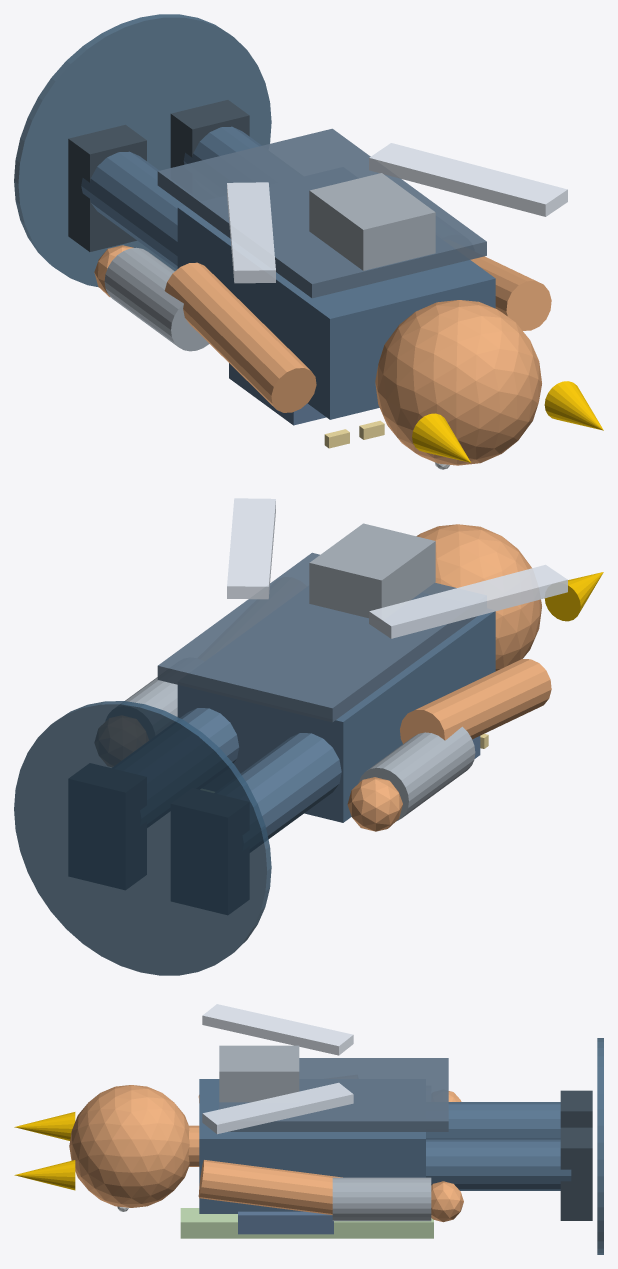
The model's file is SW_NPC_027_bracca_longsail.glb.
The picture shows the model from 3 angles, top to bottom: view 1: azimuth 30°, elevation 25°; view 2: azimuth 150°, elevation 25°; view 3: azimuth 270°, elevation 25°; orthographic projection. The views are drawn at different scales.
Parts seen in each view (by area): view 1: round_base_plate, head, torso_uniform, storm_cloak, left_upper_arm, wingpack_core, left_leg, right_wing_rig, left_forearm_gauntlet, left_boot, left_wing_rig, right_upper_arm (+5 smaller); view 2: round_base_plate, storm_cloak, torso_uniform, wingpack_core, head, left_upper_arm, left_wing_rig, left_leg, left_forearm_gauntlet, right_wing_rig, left_hand, right_leg (+2 smaller); view 3: head, torso_uniform, storm_cloak, right_leg, right_upper_arm, right_forearm_gauntlet, left_leg, wingpack_core, rank_sash, left_wing_rig, right_wing_rig, right_boot (+7 smaller).
Part boxes in pixels (x1,y1,x2,y2): round_base_plate: [14, 14, 271, 287]; head: [375, 300, 541, 465]; torso_uniform: [177, 205, 495, 419]; storm_cloak: [157, 128, 486, 298]; left_upper_arm: [164, 262, 316, 412]; wingpack_core: [309, 173, 435, 270]; left_leg: [81, 151, 184, 269]; right_wing_rig: [369, 143, 567, 216]; left_forearm_gauntlet: [104, 247, 209, 351]; left_boot: [68, 124, 146, 251]; left_wing_rig: [227, 182, 275, 283]; right_upper_arm: [470, 256, 551, 330]; round_base_plate: [14, 701, 271, 975]; storm_cloak: [157, 552, 477, 722]; torso_uniform: [177, 611, 495, 822]; wingpack_core: [309, 523, 435, 618]; head: [416, 524, 541, 670]; left_upper_arm: [400, 659, 551, 743]; left_wing_rig: [369, 564, 567, 638]; left_leg: [241, 733, 341, 839]; left_forearm_gauntlet: [358, 726, 475, 821]; right_wing_rig: [227, 498, 275, 599]; left_hand: [347, 777, 402, 831]; right_leg: [180, 708, 239, 763]; head: [69, 1085, 189, 1207]; torso_uniform: [199, 1079, 425, 1213]; storm_cloak: [219, 1058, 448, 1131]; right_leg: [426, 1139, 571, 1190]; right_upper_arm: [198, 1160, 342, 1215]; right_forearm_gauntlet: [332, 1177, 431, 1221]; left_leg: [426, 1102, 560, 1139]; wingpack_core: [219, 1045, 299, 1102]; rank_sash: [180, 1208, 433, 1238]; left_wing_rig: [202, 1004, 353, 1055]; right_wing_rig: [202, 1082, 353, 1134]; right_boot: [560, 1127, 592, 1220].
Bounding box in the file's own units: 1.05 × 0.798 × 2.17.
